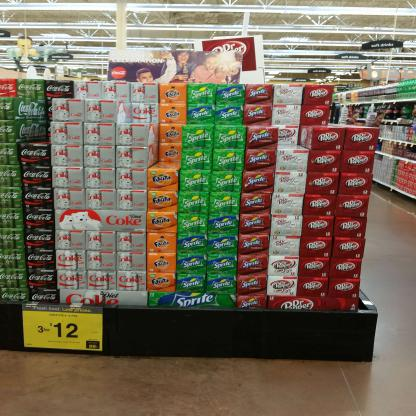Void: (155, 88, 180, 166), (281, 128, 304, 150)
